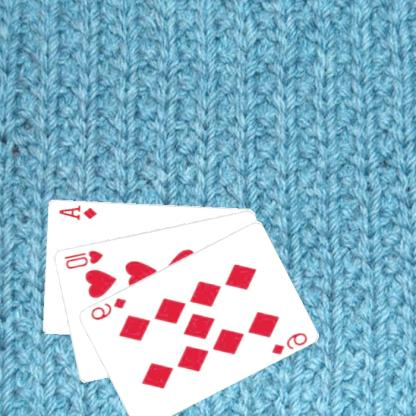10H: (63, 248, 106, 270)
9D: (270, 329, 310, 356), (89, 295, 129, 321)
AD: (58, 203, 99, 221)
